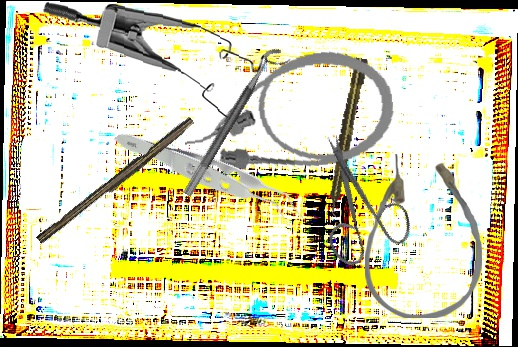Cannula: (175, 44, 400, 182), (365, 154, 482, 318)
Fixation Ring: (181, 44, 293, 205)
Handpiece: (323, 57, 370, 218)
Iris Scissors: (275, 129, 436, 285)
Scalpel Handle: (36, 114, 197, 249)
Speculum: (38, 0, 267, 120)
Tissue Forceps: (112, 74, 307, 283)
